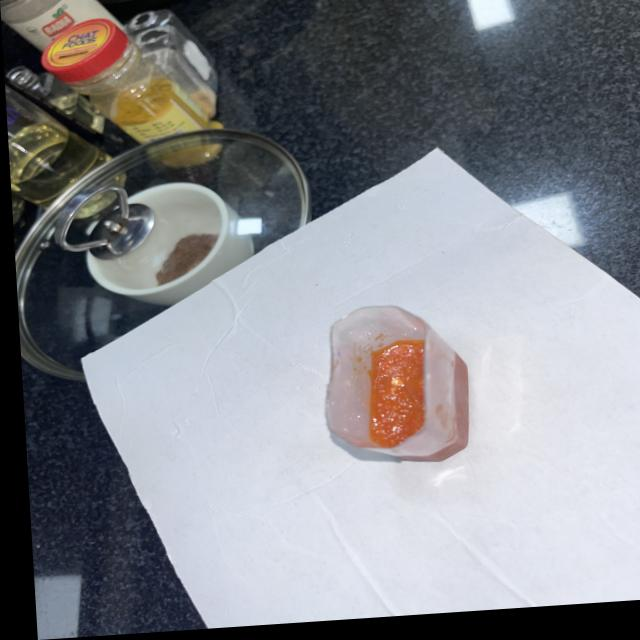blended_pepper: (359, 342, 422, 453)
